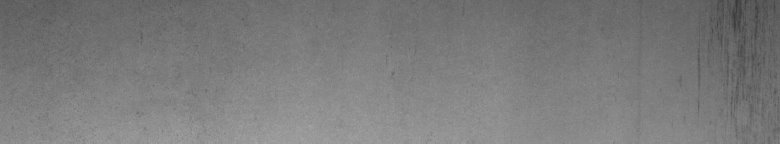ka: (693, 4, 764, 116)
